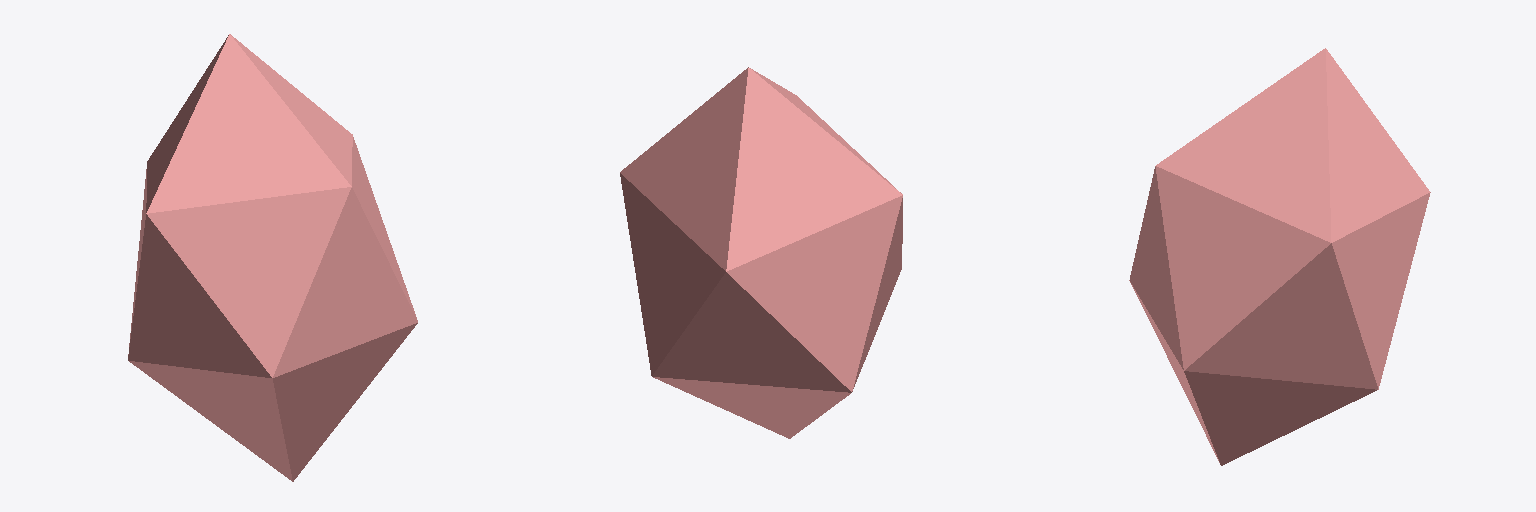
Rendered from j17_gyroelongated_square_dipyramid.obj.
3 renders of one model, left to right at view 1: azimuth 30°, elevation 25°; view 2: azimuth 150°, elevation 25°; view 3: azimuth 270°, elevation 25°, orthographic.
Size of the model in its own units: 1.53 by 2.46 by 1.63.